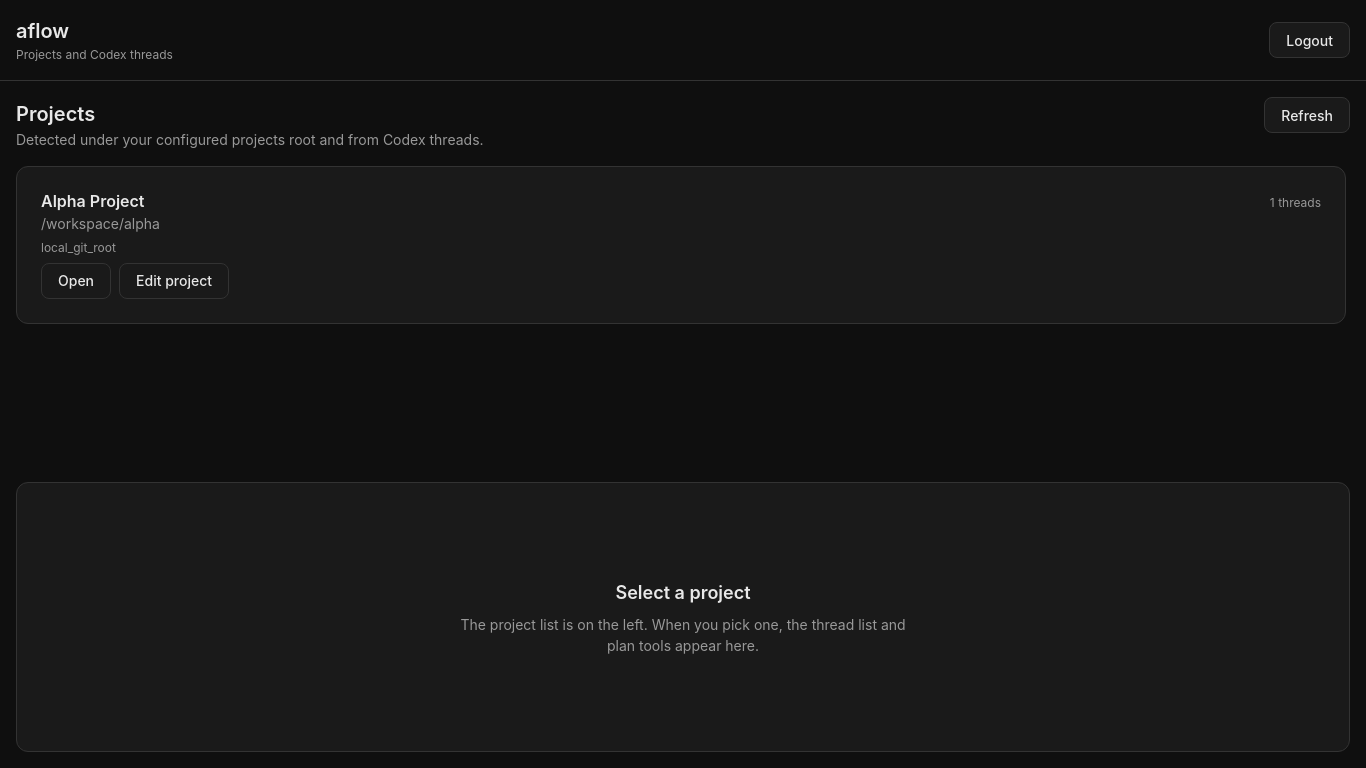
Scenario: App › shows projects and threads after authentication
Check: the text "Alpha Project" is shown, box [41,190,144,210]
Click the button "Open" at x=76, y=280, box [41,262,111,298]
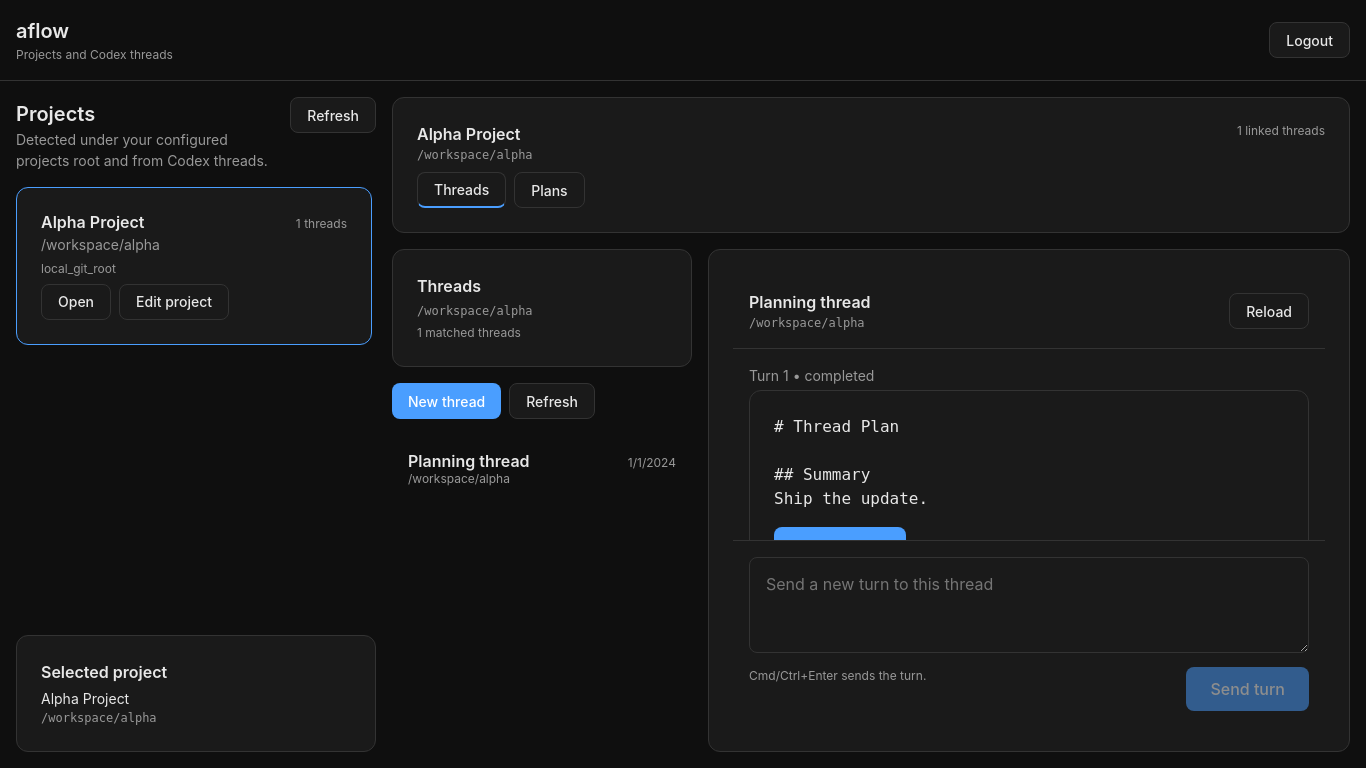
Check: the text "Planning thread" below "matched threads" is shown, box [408,451,530,471]
